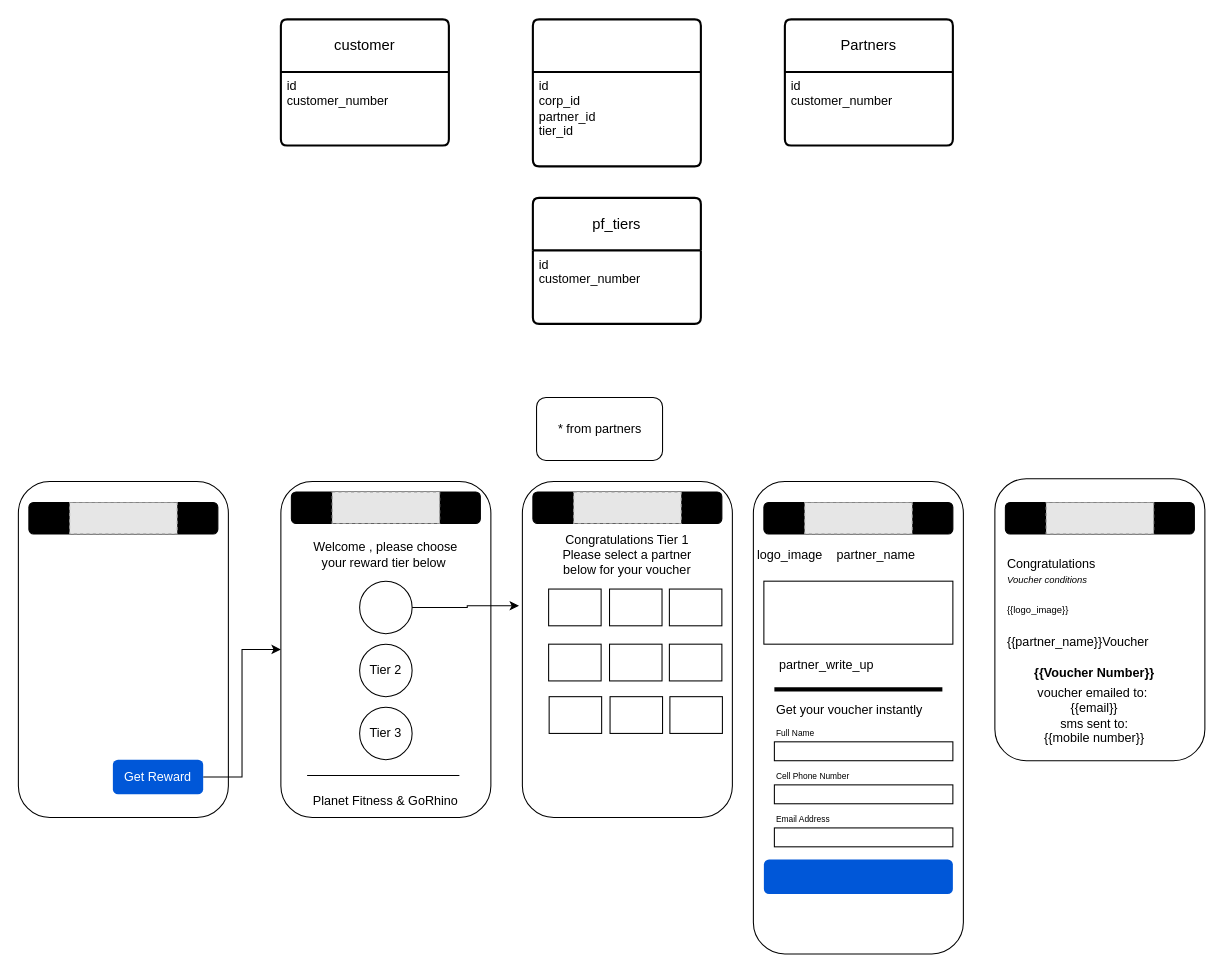
The diagram is 1223 pixels wide and 972 high, and some of its shapes have lost their labels. Grey dashed boxes stand in for pictures. The shapes that lost their labels are listed below. From the top down, each one's box as (x1, y1, x2, y2) in pixels, then its label:
(531, 18, 701, 167): pf_partners
(359, 580, 412, 634): Tier 1
(763, 580, 953, 644): landing_image
(763, 859, 952, 894): Request Voucher
